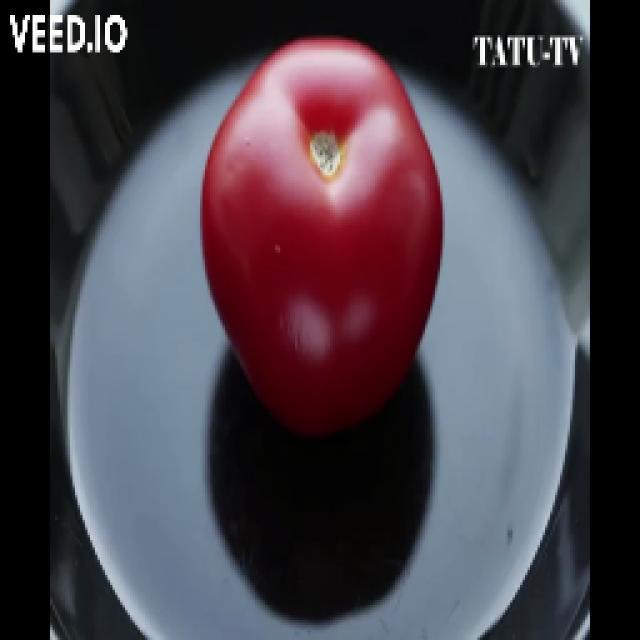tomato: (199, 38, 445, 443)
